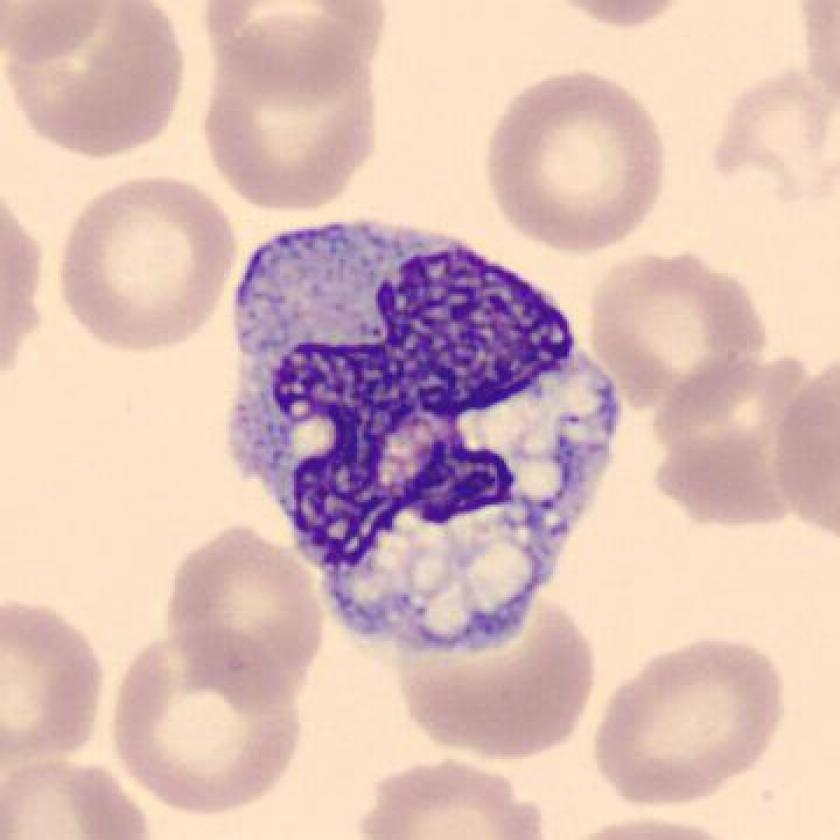monocyte: (204, 200, 645, 661)
